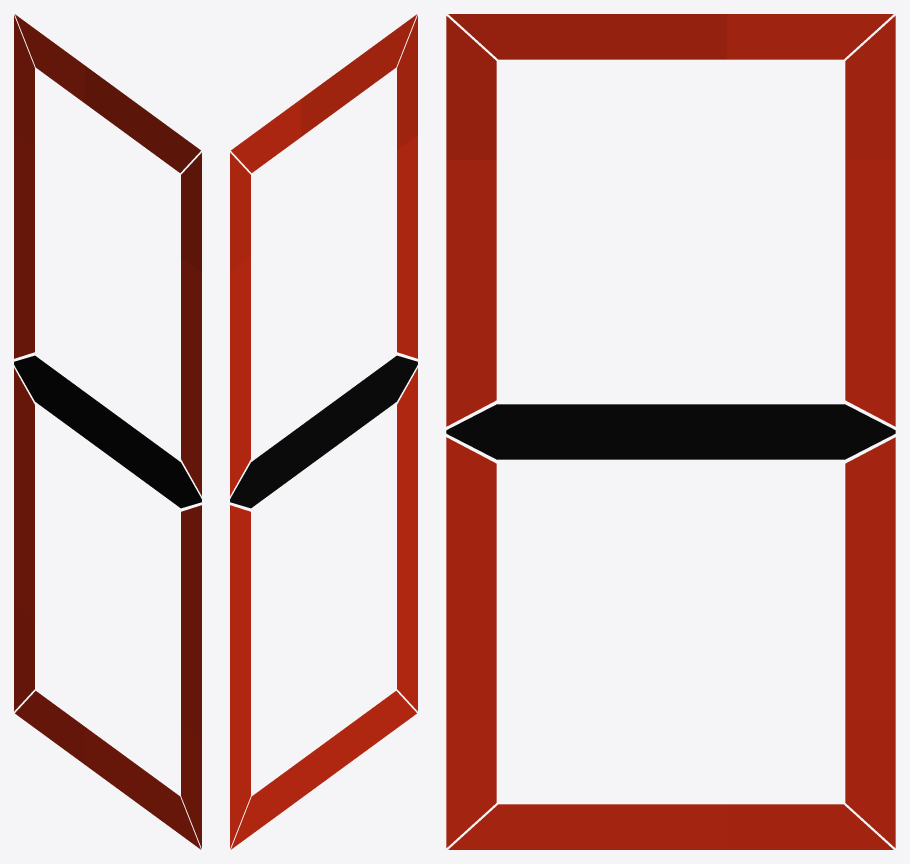
Rendered from clock_n0.fbx.
3 renders of one model, left to right at view 1: azimuth 30°, elevation 25°; view 2: azimuth 150°, elevation 25°; view 3: azimuth 270°, elevation 25°, orthographic. The views are drawn at different scales.
Parts seen in each view (by area): view 1: N0; view 2: N0; view 3: N0.
Boxes of the visible parts, left/top/right/bottom form: N0: left=14, top=14, right=201, bottom=849; N0: left=230, top=14, right=417, bottom=849; N0: left=446, top=14, right=895, bottom=849.
Size of the model in its own units: 0 by 195 by 94.97.
1 material, 1 textured.
